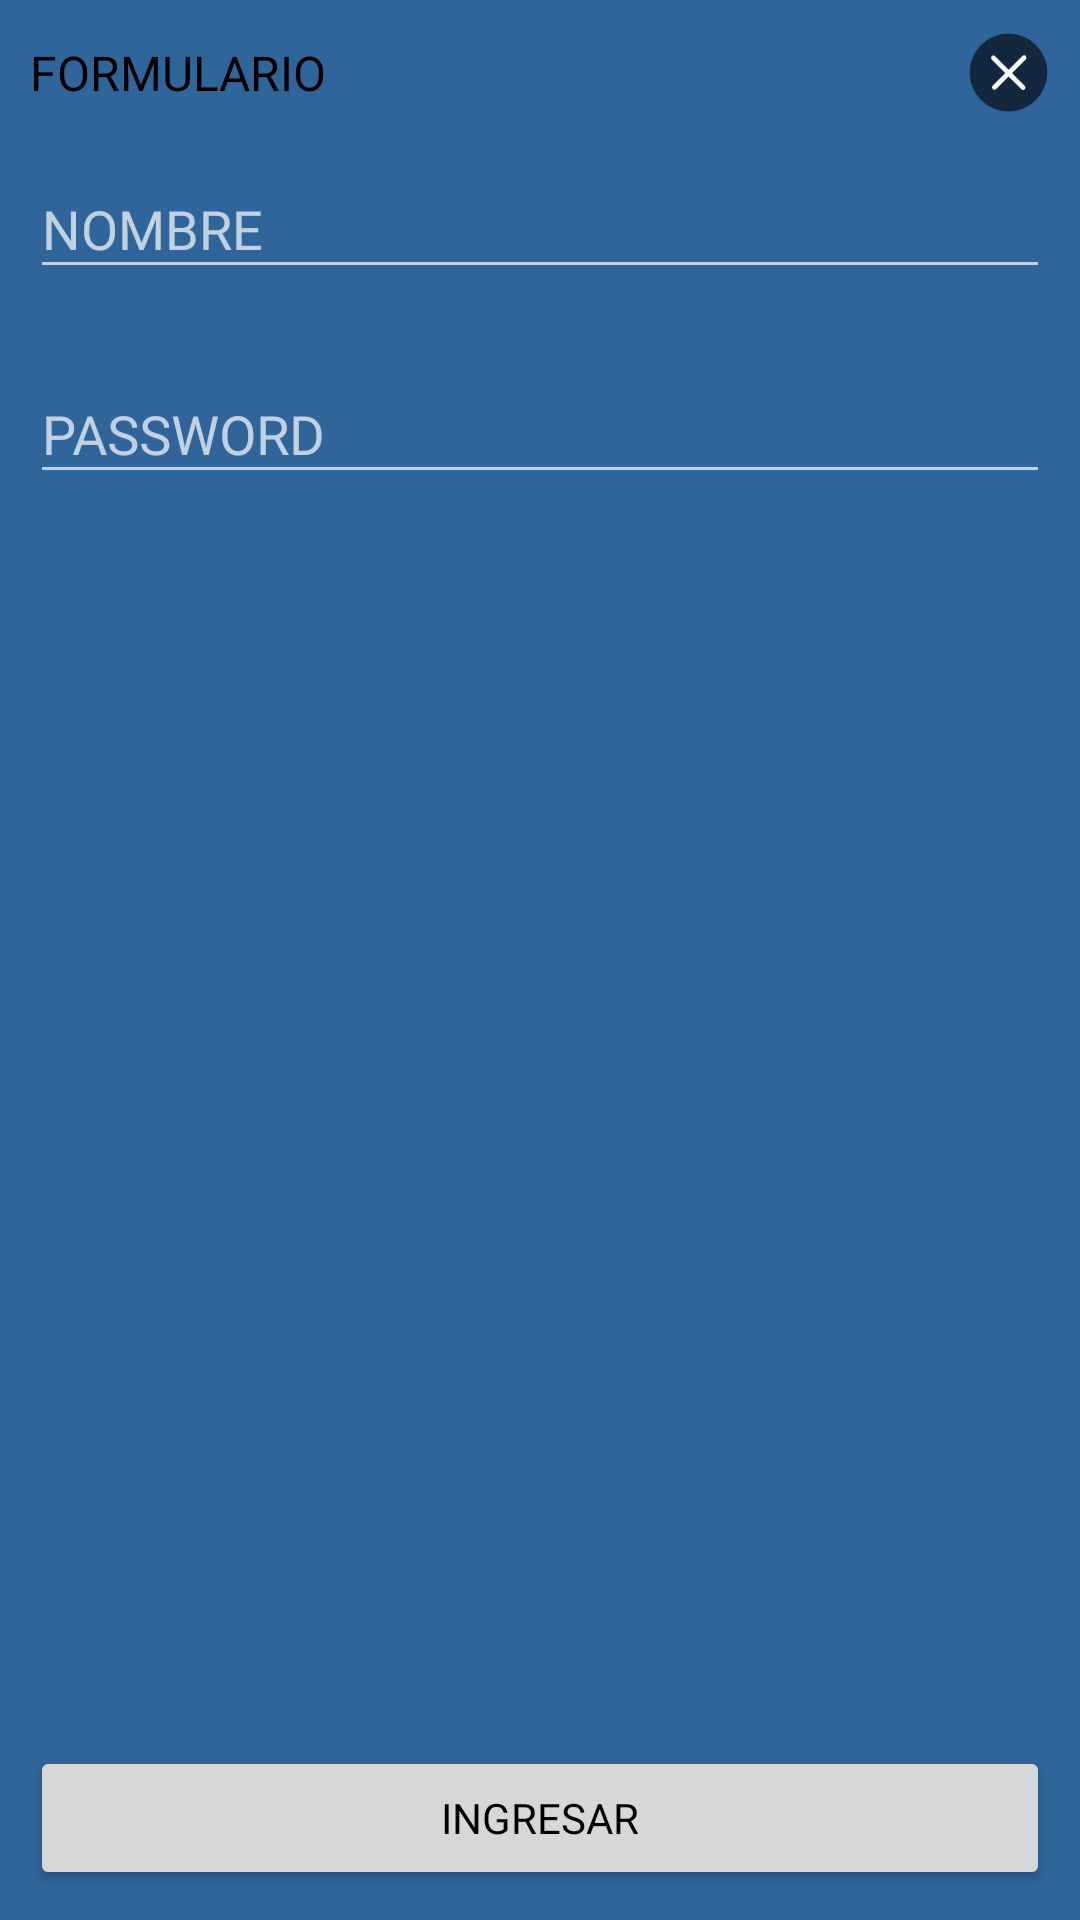

Named icons in this screenshot (1080×1920) and their centers, (x=x, y=y):
equis: (x=1008, y=72)
